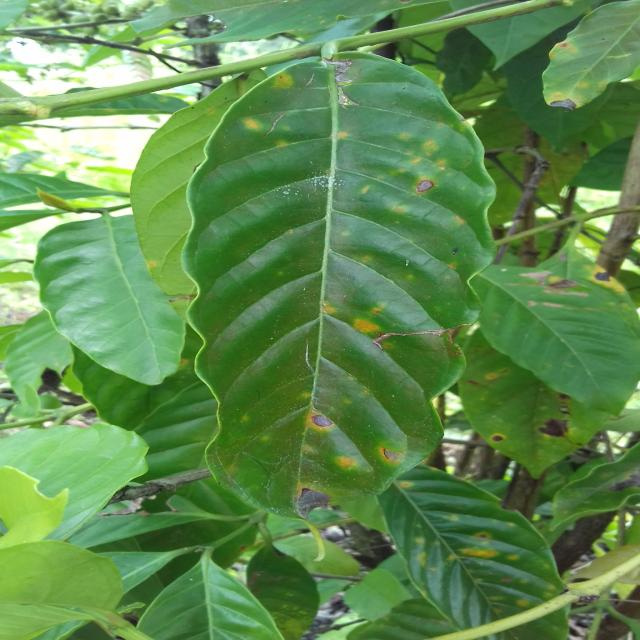Enfermedad-Roya: (183, 57, 494, 524)
